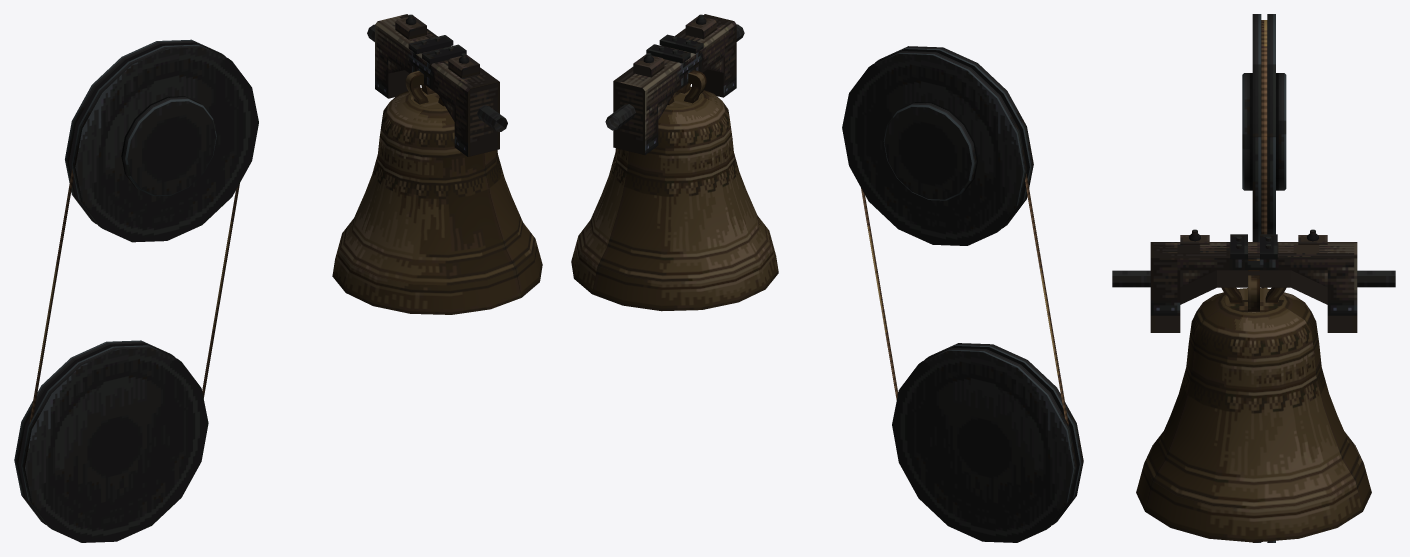
Rendered from EnvMdrMD_ClockTower_Clocktower_A_Bell.FBX.
The picture shows the model from 3 angles, left to right: view 1: azimuth 30°, elevation 25°; view 2: azimuth 150°, elevation 25°; view 3: azimuth 270°, elevation 25°; orthographic projection. The views are drawn at different scales.
Parts seen in each view (by area): view 1: EnvMdrMD_ClockTower_Clocktower_A_Wheel, EnvMdrMD_ClockTower_Clocktower_A_Bell; view 2: EnvMdrMD_ClockTower_Clocktower_A_Wheel, EnvMdrMD_ClockTower_Clocktower_A_Bell; view 3: EnvMdrMD_ClockTower_Clocktower_A_Bell, EnvMdrMD_ClockTower_Clocktower_A_Wheel.
Part boxes in pixels (x1=…): EnvMdrMD_ClockTower_Clocktower_A_Wheel: x1=14, y1=39, x2=258, y2=542; EnvMdrMD_ClockTower_Clocktower_A_Bell: x1=332, y1=14, x2=542, y2=314; EnvMdrMD_ClockTower_Clocktower_A_Wheel: x1=842, y1=46, x2=1083, y2=542; EnvMdrMD_ClockTower_Clocktower_A_Bell: x1=571, y1=14, x2=778, y2=311; EnvMdrMD_ClockTower_Clocktower_A_Bell: x1=1112, y1=229, x2=1395, y2=542; EnvMdrMD_ClockTower_Clocktower_A_Wheel: x1=1242, y1=14, x2=1286, y2=542.
Bounding box in the file's own units: 1100 × 1000 × 480.
Materials: 1 (1 with a texture image).
